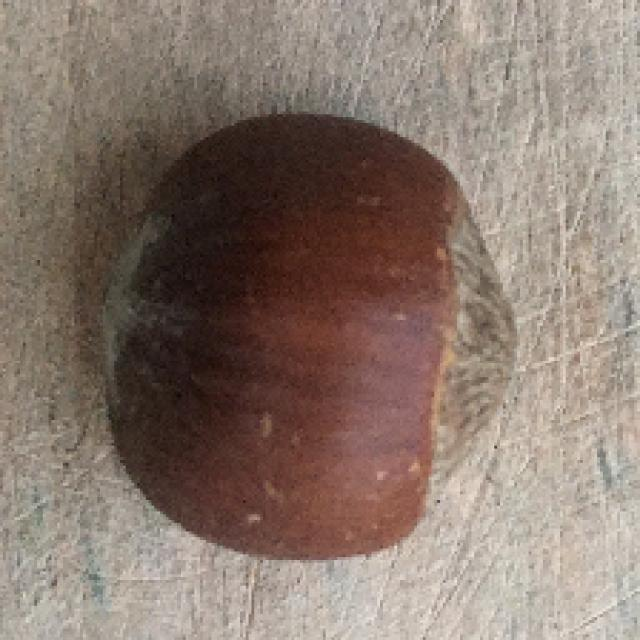DamagedHazelnut: (96, 112, 524, 555)
